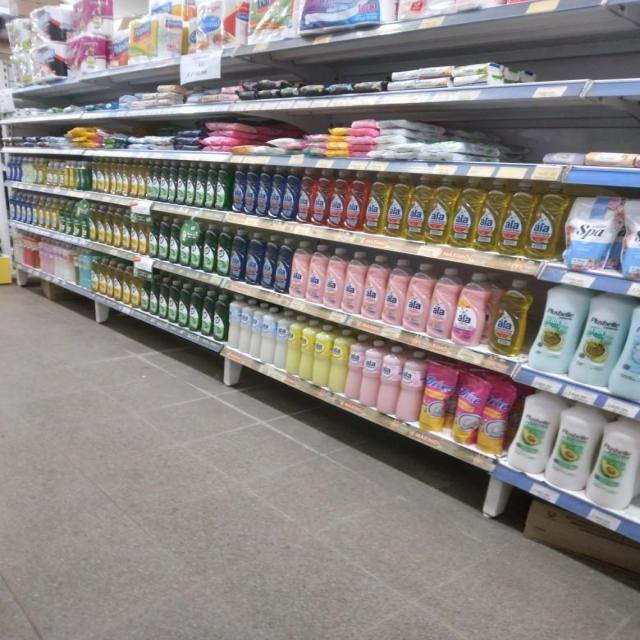ala_conc_amarillo: (492, 277, 530, 357), (530, 181, 563, 260), (502, 180, 530, 256), (478, 178, 502, 253), (453, 177, 477, 250), (428, 175, 453, 245), (407, 173, 427, 242), (366, 172, 387, 236), (388, 172, 407, 238)
ala_conc_azul: (282, 166, 298, 222), (245, 232, 261, 286), (275, 237, 290, 294), (230, 228, 245, 283), (262, 234, 276, 291), (269, 167, 282, 220), (231, 164, 244, 214), (257, 165, 269, 218), (245, 164, 256, 216)
ala_conc_rojo: (347, 170, 366, 234), (329, 170, 346, 230), (313, 168, 329, 226), (298, 167, 312, 224)
ala_crem_amarillo: (331, 330, 347, 396), (314, 324, 330, 388), (300, 318, 313, 382), (287, 314, 300, 376)
ala_crem_blanco: (262, 306, 276, 364), (275, 310, 287, 370), (240, 300, 252, 354), (250, 302, 260, 359)
ala_crem_rosado: (399, 351, 422, 424), (379, 344, 399, 417), (362, 340, 378, 407), (347, 334, 362, 402)
ala_ultra_rosa: (455, 271, 489, 346), (430, 266, 454, 341), (405, 262, 429, 333), (384, 258, 405, 326), (363, 254, 384, 321), (343, 250, 362, 314), (325, 247, 343, 310), (291, 240, 307, 300), (308, 244, 324, 303)
cif_conc_botella_verde: (215, 163, 230, 211), (217, 226, 230, 277), (202, 224, 215, 274), (195, 162, 206, 208), (147, 160, 158, 200), (206, 162, 215, 210), (186, 161, 195, 206), (177, 161, 186, 205), (169, 160, 177, 203), (160, 160, 168, 202)
